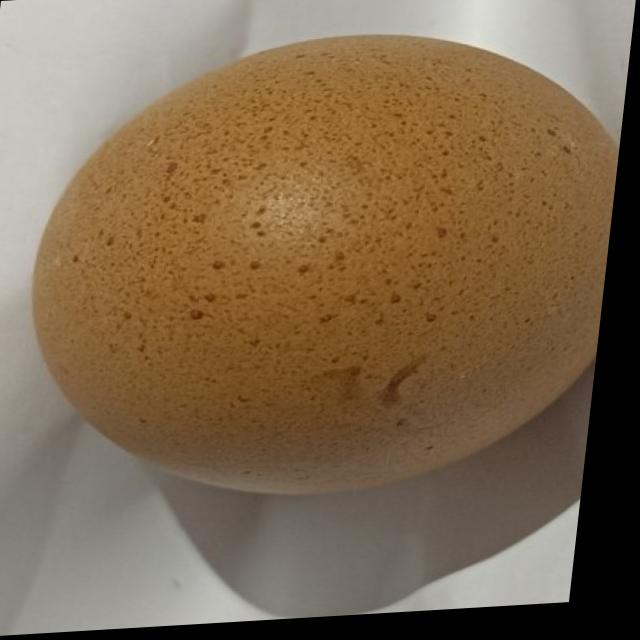unfresh: (16, 26, 635, 507)
